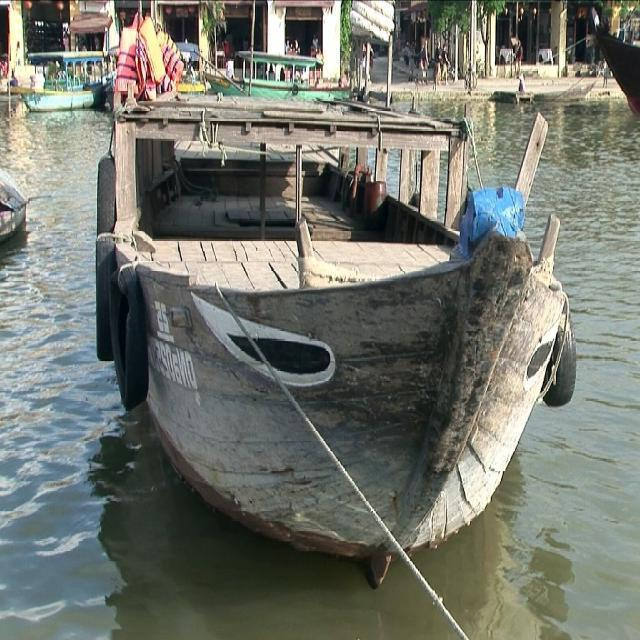boat: (82, 68, 574, 560)
